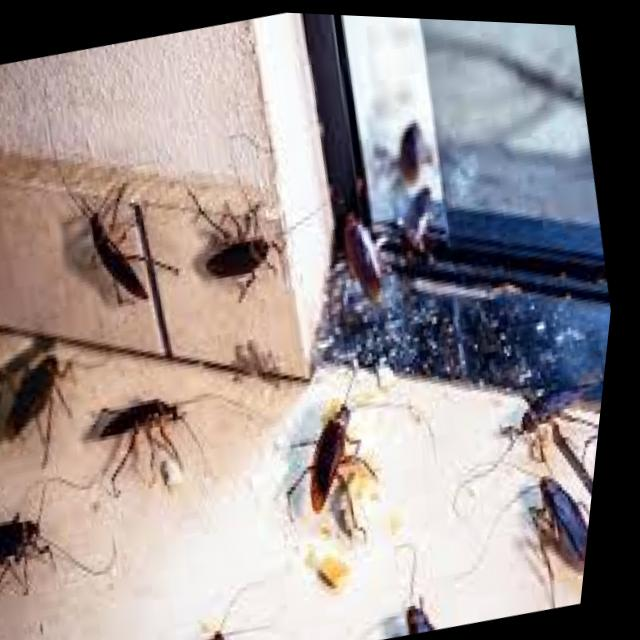Cockroach: (242, 333, 448, 580), (24, 118, 203, 392), (151, 142, 323, 367), (298, 148, 438, 353), (57, 357, 228, 498), (0, 308, 124, 480), (513, 424, 607, 606)
